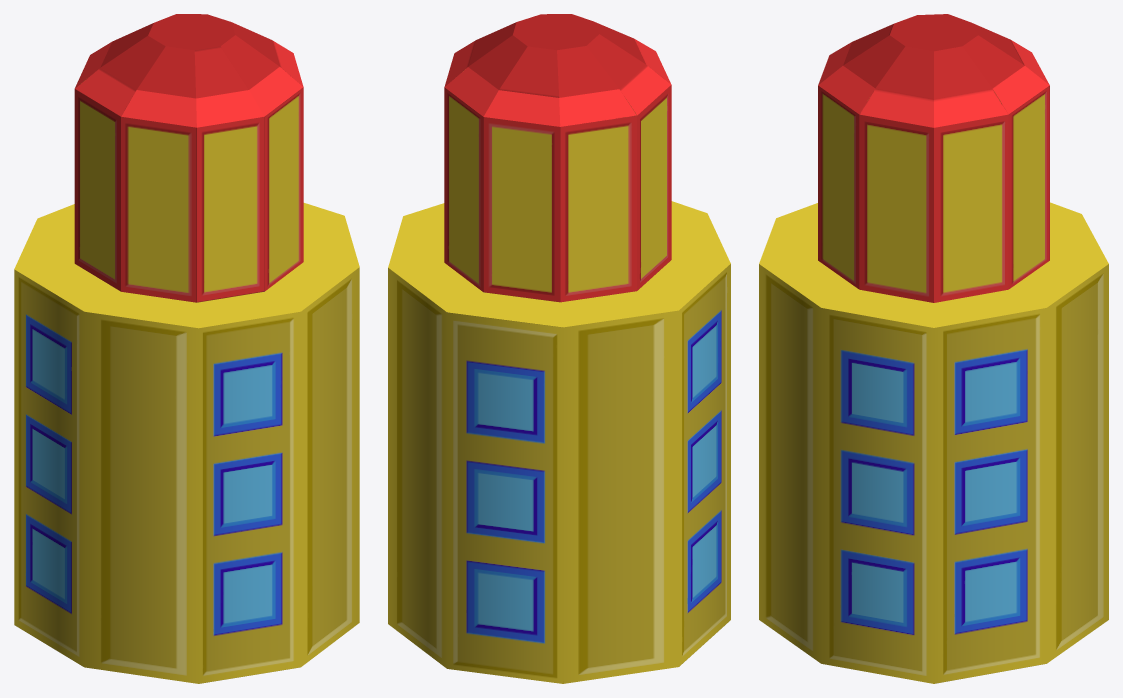
File: building set 2_05.fbx
3 views of the same model, side by side, from view 1: azimuth 30°, elevation 25°; view 2: azimuth 150°, elevation 25°; view 3: azimuth 270°, elevation 25° (orthographic).
Parts seen in each view (by area): view 1: pCylinder1; view 2: pCylinder1; view 3: pCylinder1.
Part boxes in pixels (box(x1,y1,x2,y2)): pCylinder1: box(14, 14, 359, 683); pCylinder1: box(388, 14, 730, 683); pCylinder1: box(759, 14, 1108, 683).
Size of the model in its own units: 2.83 by 5.16 by 2.83.
